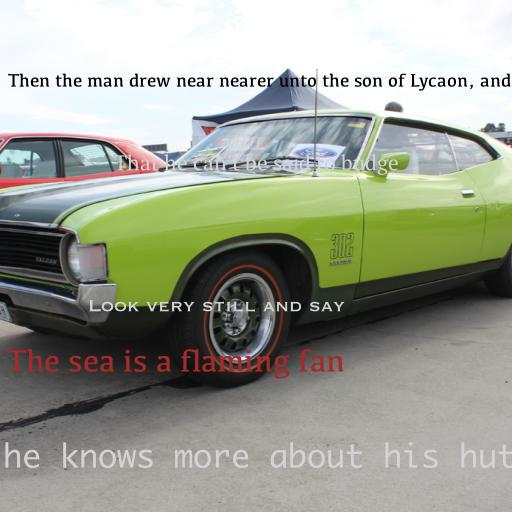Copperplate: (87, 300, 345, 312)
Kefa: (7, 349, 345, 379), (7, 73, 511, 91)
Monaco: (0, 441, 512, 469)
PT Serif: (113, 154, 399, 175)
